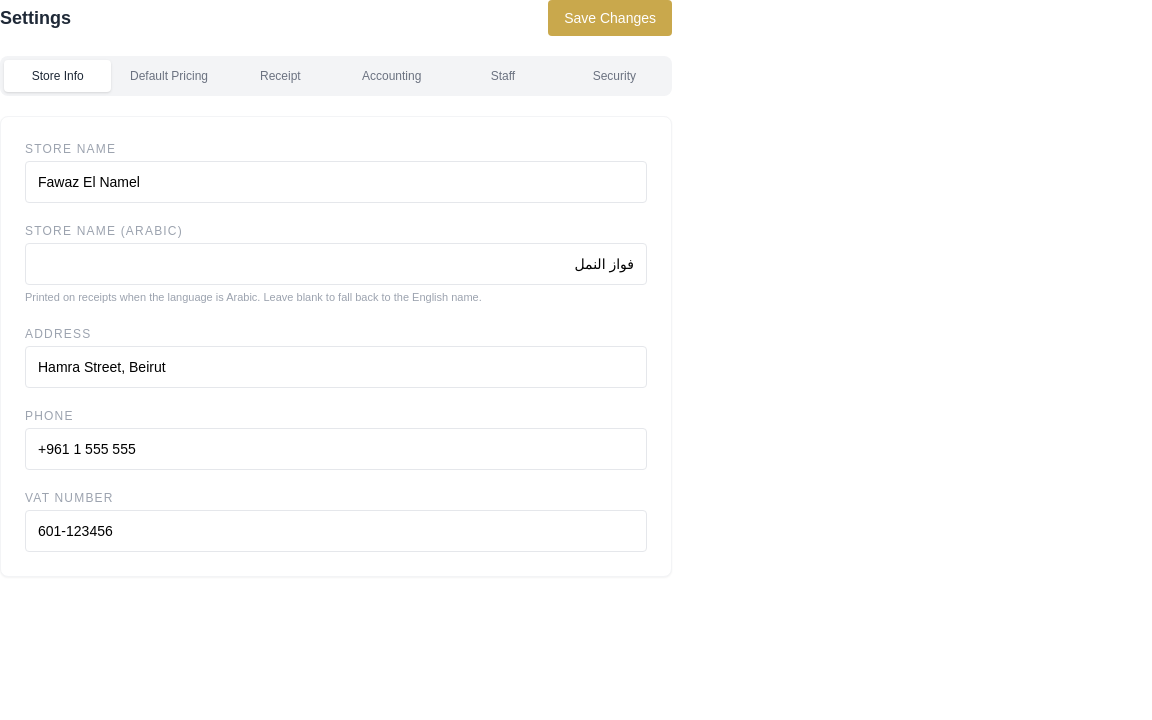
Test: settings — every field is labelled (NEX-64) › pricing tab, including the select and the $-prefixed markups
Click the button "Default Pricing" at (169, 76), box [115,60,223,92]
(page scrolled)
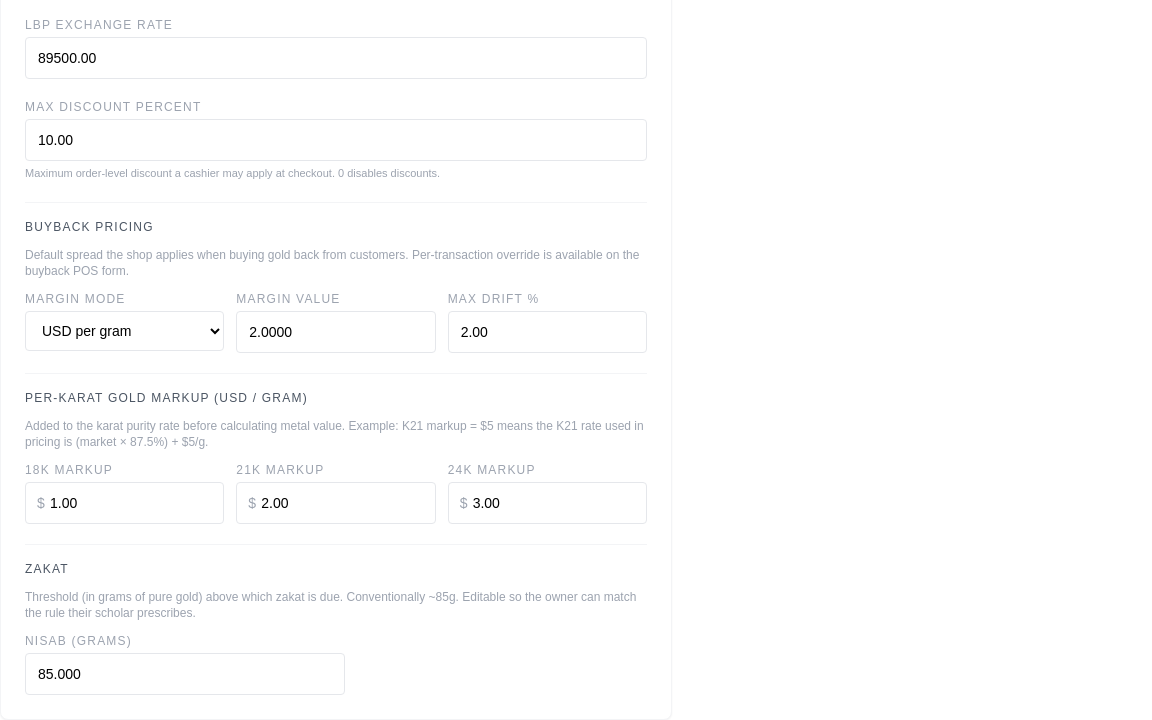
Result: the label "LBP exchange rate" is shown at [25,17,647,79]
Result: the number field labelled "LBP exchange rate" holds "89500.00" at [25,37,647,79]
Result: the label "Max discount percent" is shown at [25,99,647,161]
